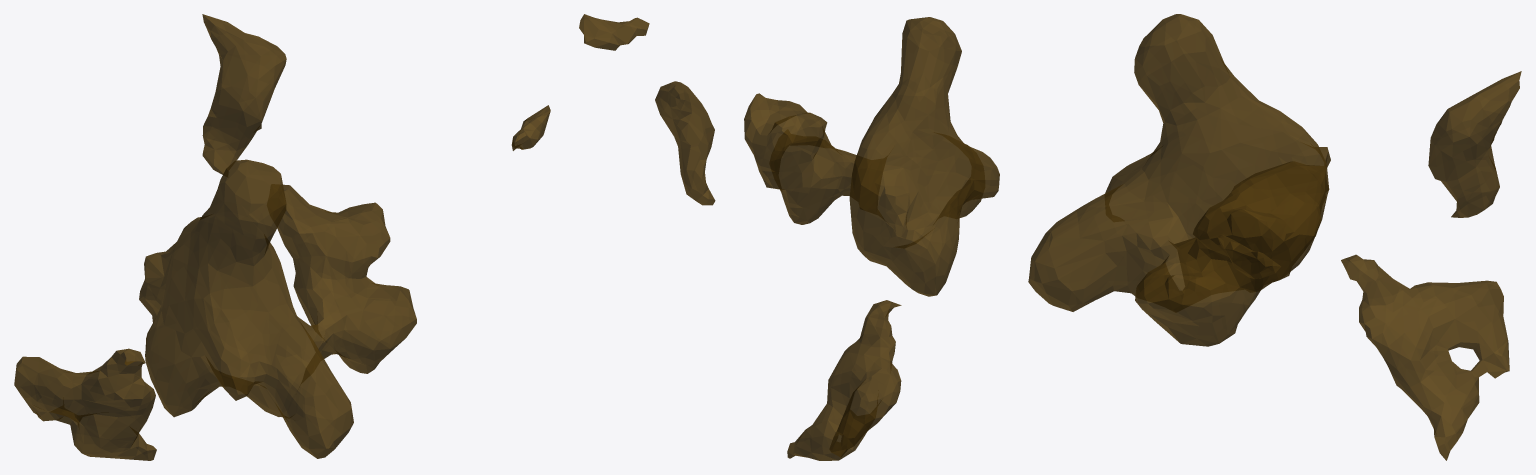
Rendered from AngelsDust2.glb.
3 views of the same model, side by side, from view 1: azimuth 30°, elevation 25°; view 2: azimuth 150°, elevation 25°; view 3: azimuth 270°, elevation 25° (orthographic). The views are drawn at different scales.
Visible parts, largest first — view 1: AngelsDust2; view 2: AngelsDust2; view 3: AngelsDust2.
Part boxes in pixels (x1=…): AngelsDust2: x1=14, y1=14, x2=550, y2=460; AngelsDust2: x1=579, y1=14, x2=999, y2=460; AngelsDust2: x1=1028, y1=14, x2=1521, y2=460.
Bounding box in the file's own units: 137 × 122 × 125.
